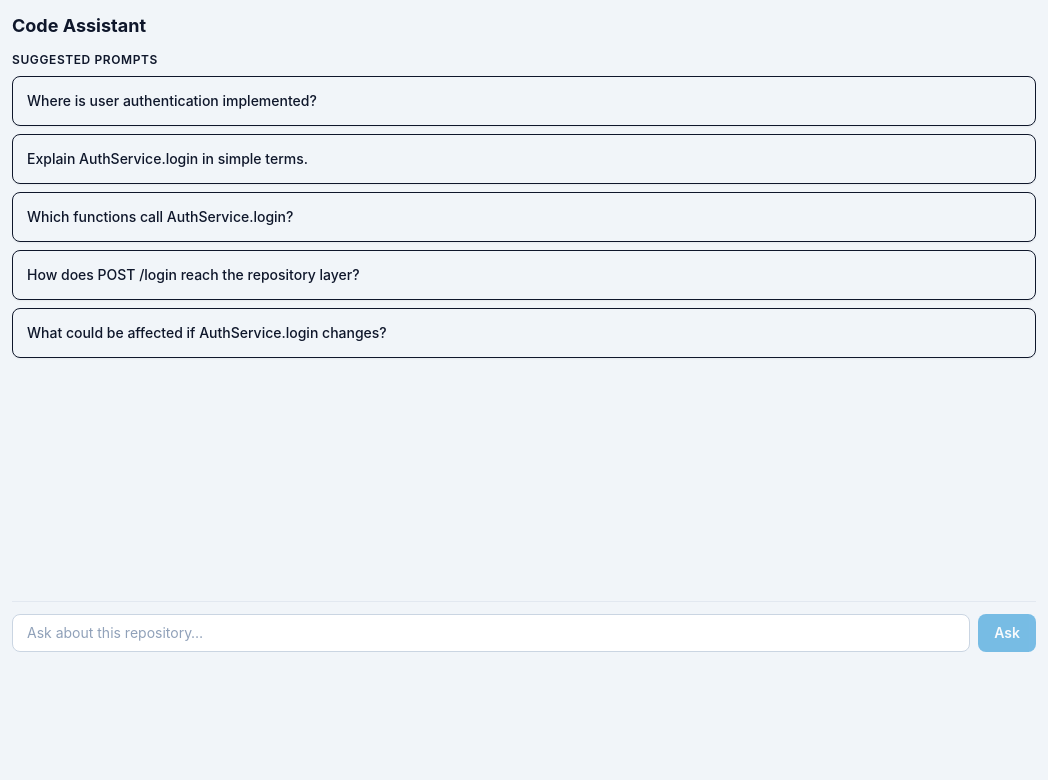
Test case: AssistantPage › shows abstention copy clearly instead of rendering citations when the backend abstains
Click the button "Where is user authentication implemented?" at [172, 100], box [12,76,1036,126]
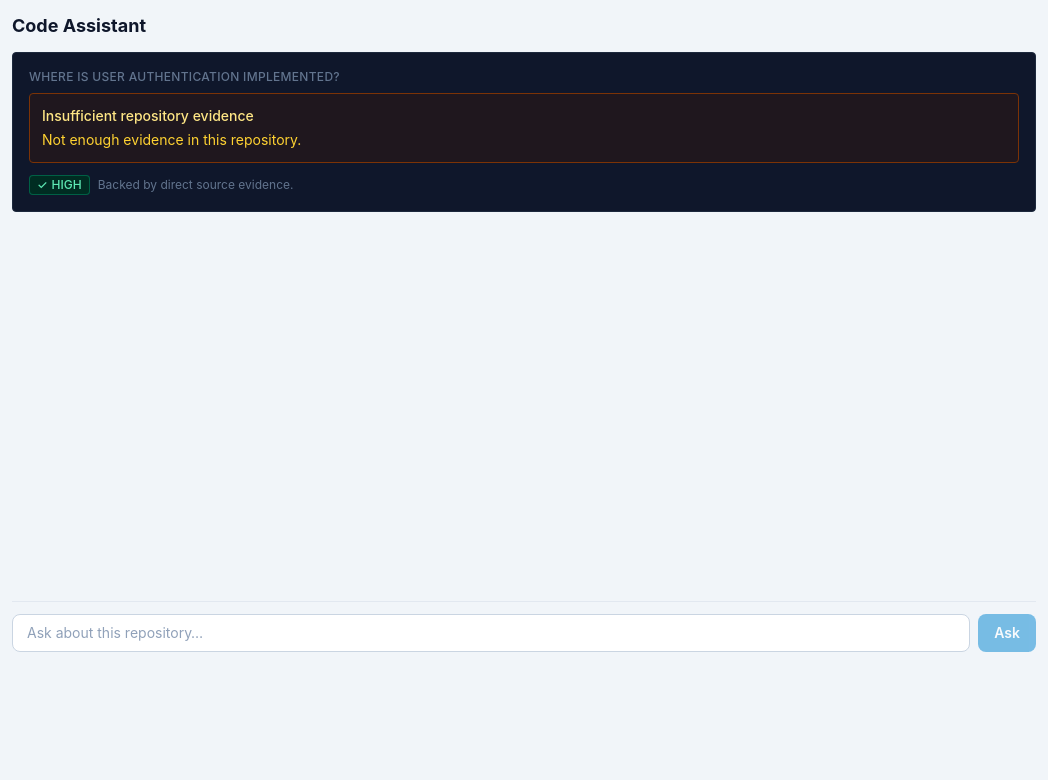
Now the text "Insufficient repository evidence" is shown, box [42,107,254,124]
Now the text "Not enough evidence in this repository." is shown, box [42,131,301,148]
